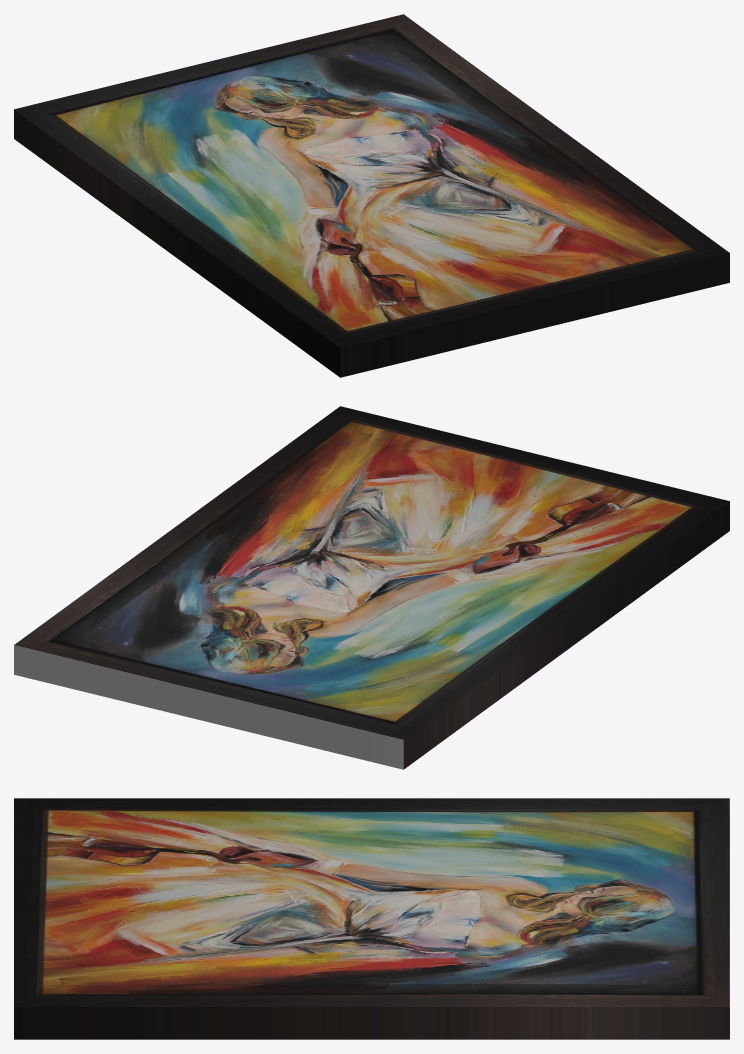
The model's file is tablo1.glb.
The picture shows the model from 3 angles, top to bottom: view 1: azimuth 30°, elevation 25°; view 2: azimuth 150°, elevation 25°; view 3: azimuth 270°, elevation 25°; orthographic projection. The views are drawn at different scales.
Size of the model in its own units: 0.1521 by 0.0111 by 0.2207.
Materials: 1 (1 with a texture image).
